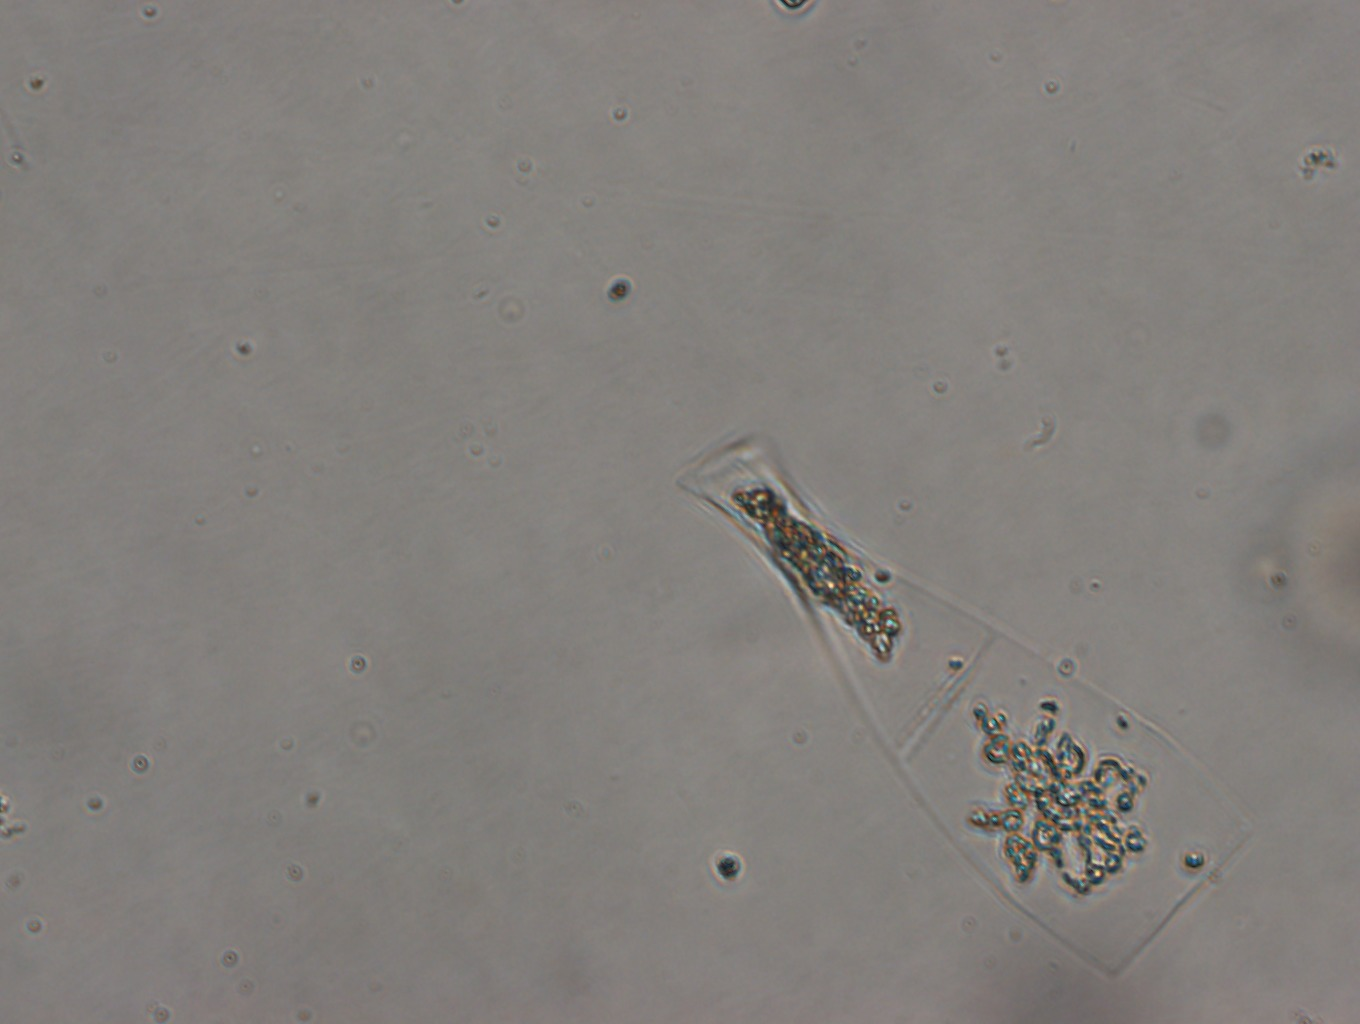helicotheca: (670, 424, 1265, 989)
